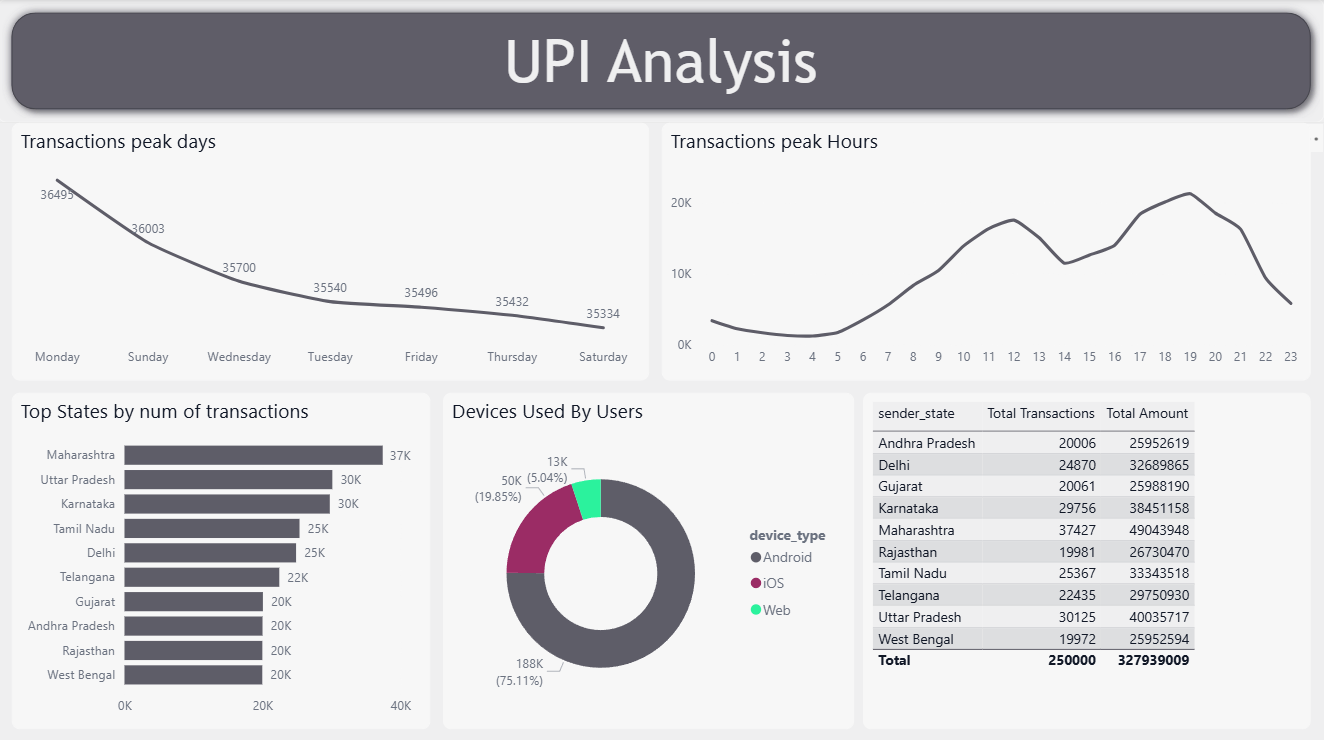

Layout of this report page (visuals, bound fields, positions):
{"tool":"powerbi","page":{"name":"Detail analysis'","canvas":[1280,720],"ordinal":1},"visuals":[{"type":"shape","box":[0,0,1280,119.4],"z":0},{"type":"lineChart","title":"Transactions peak days","fields":{"Category":["upi_transactions_2024.day_of_week"],"Y":["CountNonNull(upi_transactions_2024.transaction id)"]},"box":[13.3,119.4,615.3,248.5],"z":1},{"type":"barChart","title":"Top States by num of transactions","fields":{"Y":["Measure.Total Transactions"],"Category":["upi_transactions_2024.sender_state"]},"box":[13.3,380,404.2,324.5],"z":2},{"type":"lineChart","title":"Transactions peak Hours","fields":{"Y":["CountNonNull(upi_transactions_2024.transaction id)"],"Category":["upi_transactions_2024.hour_of_day"]},"box":[640.6,119.4,626.1,248.5],"z":3},{"type":"donutChart","title":"Devices Used By Users","fields":{"Category":["upi_transactions_2024.device_type"],"Y":["Measure.Total Transactions"]},"box":[429.5,380,396.9,324.5],"z":4},{"type":"tableEx","fields":{"Values":["upi_transactions_2024.sender_state","Measure.Total Transactions","Measure.Total Amount"]},"box":[834.9,380,431.9,324.5],"z":5}]}

Visuals, with their boxes in screenshot pixels (x1, y1, x2, y2), scaled from the page's 1280x720 canvas onto the 1324x740 screenshot:
shape: <box>0,0,1323,123</box>
"Transactions peak days" lineChart: <box>14,123,650,378</box>
"Top States by num of transactions" barChart: <box>14,391,432,724</box>
"Transactions peak Hours" lineChart: <box>663,123,1310,378</box>
"Devices Used By Users" donutChart: <box>444,391,855,724</box>
tableEx - upi_transactions_2024.sender_state x Measure.Total Transactions: <box>864,391,1310,724</box>
